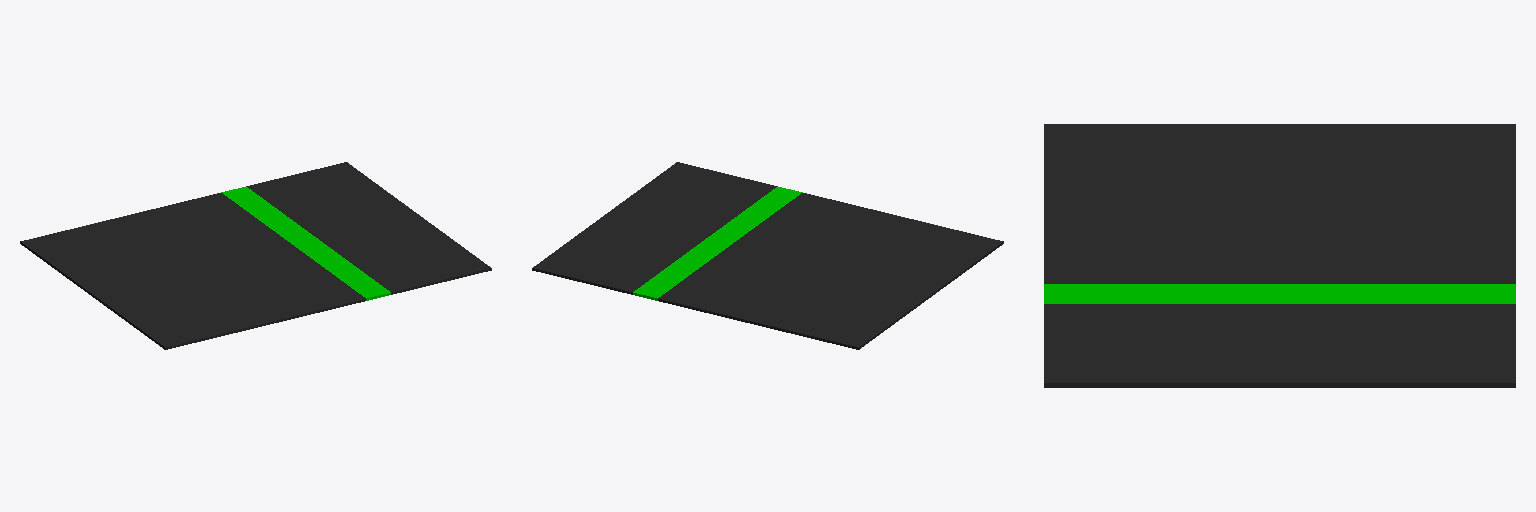
robot.urdf — blockterrain:
<?xml version="1.0"?>
<robot name = "blockterrain">
<material name="black">
    <color rgba="0.0 0.0 0.0 1.0"/>
  </material>
  <material name="blue">
    <color rgba="0.0 0.0 0.8 1.0"/>
  </material>
  <material name="green">
    <color rgba="0.0 0.8 0.0 1.0"/>
  </material>
  <material name="grey">
    <color rgba="0.2 0.2 0.2 1.0"/>
  </material>
  <material name="silver">
    <color rgba="0.913725490196 0.913725490196 0.847058823529 1.0"/>
  </material>
  <material name="orange">
    <color rgba="1.0 0.423529411765 0.0392156862745 1.0"/>
  </material>
  <material name="brown">
    <color rgba="0.870588235294 0.811764705882 0.764705882353 1.0"/>
  </material>
  <material name="red">
    <color rgba="0.8 0.0 0.0 1.0"/>
  </material>
  <material name="white">
    <color rgba="1.0 1.0 1.0 1.0"/>
  </material>
<link name = "starting_tile">
        <visual>
            <origin xyz = ".5 3 -0.05"/>
            <geometry>
                <box size = "8 10 0.1" />
            </geometry>
            <material name="grey"/>
        </visual>
        <inertial>
            <origin xyz="0 0 0"/>
            <mass value="1"/>
            <inertia ixx="0.167" iyy="0.167" izz="0.167" ixy="0" ixz="0" iyz="0"/>
        </inertial>
    </link>
    <link name = "goal_tile">
        <visual>
            <origin xyz = "5 3 -0.05"/>
            <geometry>
                <box size = "1 10 0.1"/>
            </geometry>
            <material name="green"/>
        </visual>
        <inertial>
            <origin xyz="0 0 0"/>
            <mass value="1"/>
            <inertia ixx="0.167" iyy="0.167" izz="0.167" ixy="0" ixz="0" iyz="0"/>
        </inertial>
    </link>
    <link name = "final_tile">
        <visual>
            <origin xyz = "7.5 3 -0.05"/>
            <geometry>
                <box size="4 10 0.1"/>
            </geometry>
        <material name="grey"/>
        </visual>
        <inertial>
            <origin xyz="0 0 0"/>
            <mass value="1"/>
            <inertia ixx="0.167" iyy="0.167" izz="0.167" ixy="0" ixz="0" iyz="0"/>
        </inertial>
        <!-- Put a single collision point at the bottom of the box-->
        <!--First collision point-->
        <collision>
            <origin xyz="0.0 0.0 -0.5"/>
            <geometry>
                <sphere radius="0"/>
            </geometry>
        </collision>
    </link>
    <!--Add joints between the dummy frames to model the brick-->
    <joint name="start_to_sticky" type="fixed">
        <parent link="starting_tile"/>
        <child link="goal_tile"/>
        <origin rpy="0 0 0" xyz="0 0 0"/>
        <axis xyz="0 0 1"/>
    </joint>
    <joint name="stick_to_final" type="fixed">
        <parent link="goal_tile"/>
        <child link="final_tile"/>
        <origin rpy="0 0 0" xyz="0 0 0"/>
        <axis xyz="0 0 1"/>
    </joint>
</robot>

--- Render facts (derived) ---
The picture shows the robot from 3 angles, left to right: view 1: azimuth 30°, elevation 25°; view 2: azimuth 150°, elevation 25°; view 3: azimuth 270°, elevation 25°; orthographic projection.
Robot: blockterrain — 3 links, 2 joints (2 fixed); root link starting_tile; default pose: every joint at zero.
Links seen in each view (by area): view 1: starting_tile, final_tile, goal_tile; view 2: starting_tile, final_tile, goal_tile; view 3: starting_tile, final_tile, goal_tile.
Boxes of the visible links, x1,y1,x2,y2 form: starting_tile: [20, 193, 365, 349]; final_tile: [246, 162, 491, 294]; goal_tile: [221, 187, 390, 300]; starting_tile: [658, 193, 1003, 349]; final_tile: [532, 162, 777, 294]; goal_tile: [633, 187, 802, 300]; starting_tile: [1044, 124, 1515, 283]; final_tile: [1044, 304, 1515, 387]; goal_tile: [1044, 284, 1515, 303].
Size in the robot's own frame: 13 by 10 by 0.1 metres.
Geometry: primitives only (box / cylinder / sphere), no mesh files.